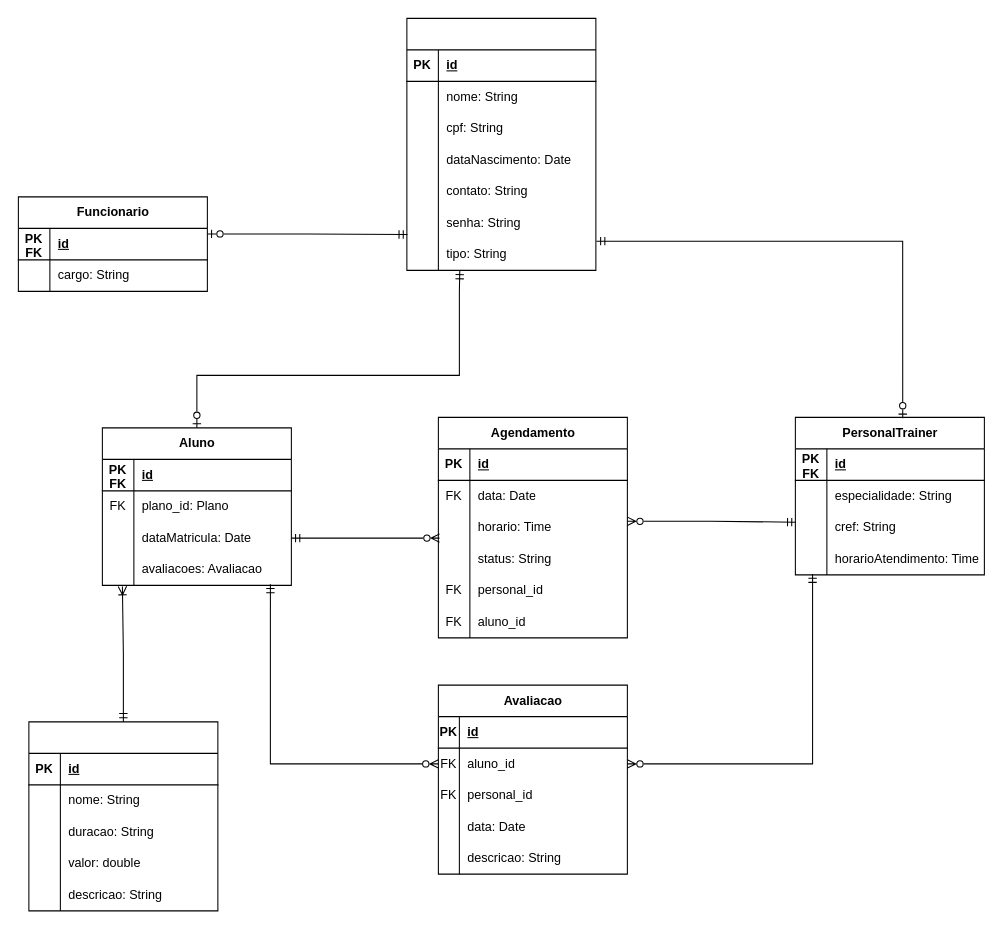
This 1003x929 diagram has some shape labels left out. Each missing label, with the box of its shape:
Pessoa: (406, 17, 596, 270)
Plano: (28, 721, 218, 911)
